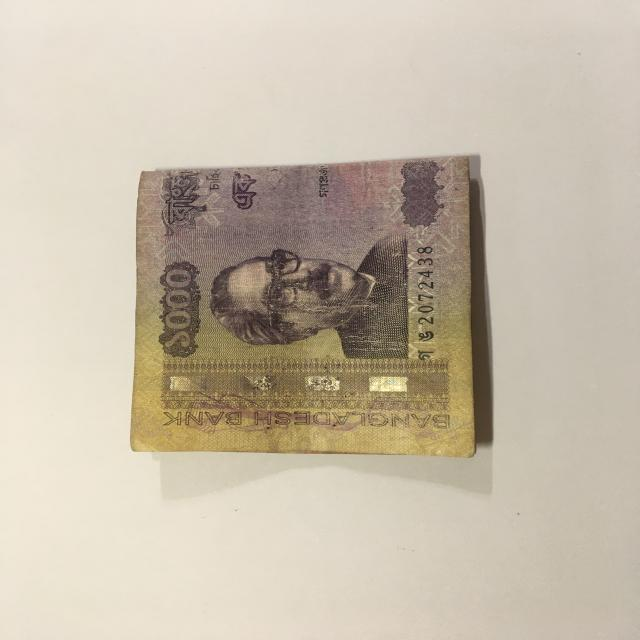Taka: (127, 159, 498, 468)
